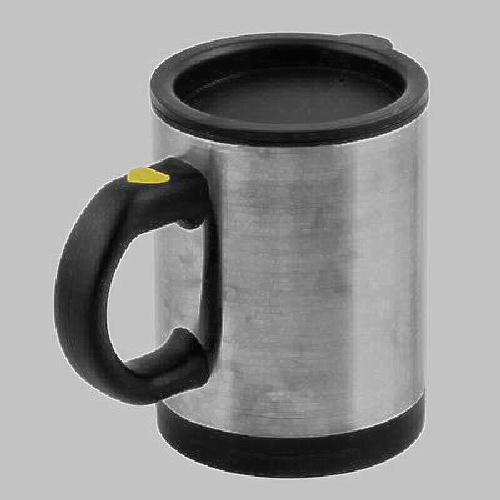mug: (83, 53, 440, 467)
